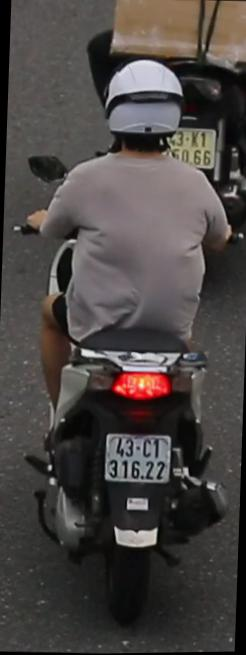LP: (101, 424, 175, 487)
helmet: (103, 51, 188, 165)
